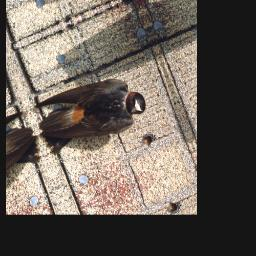Swallow: (28, 60, 152, 163)
